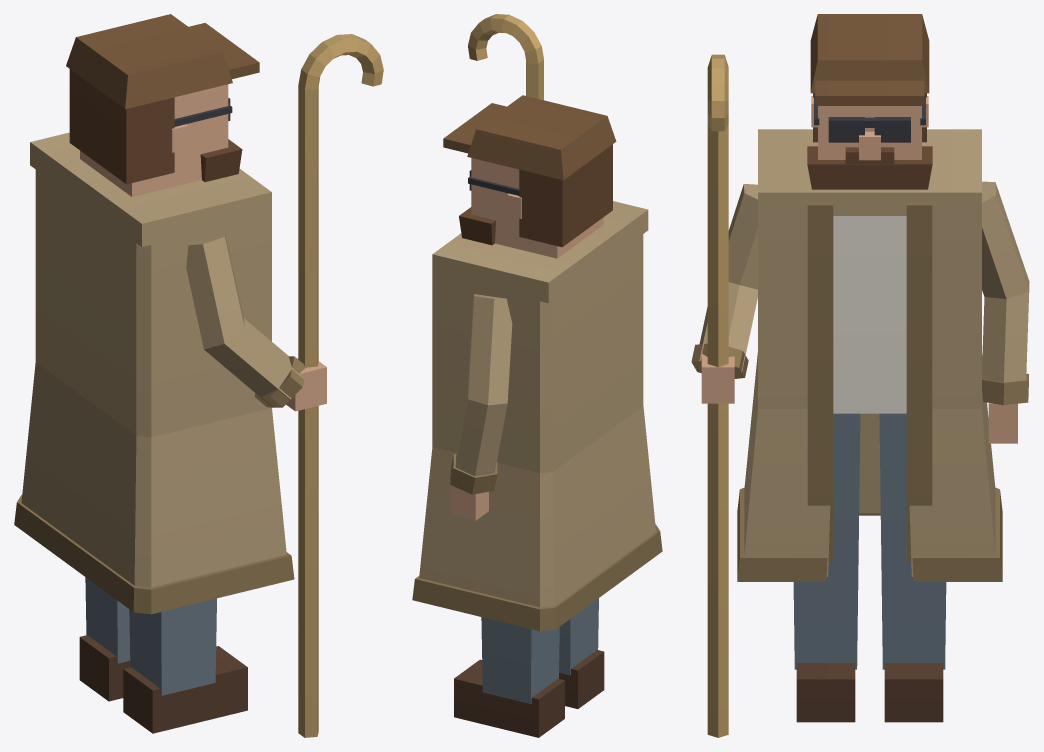
File: SM_Handler.glb
The picture shows the model from 3 angles, left to right: view 1: azimuth 30°, elevation 25°; view 2: azimuth 150°, elevation 25°; view 3: azimuth 270°, elevation 25°; orthographic projection. The views are drawn at different scales.
Visible parts, largest first — view 1: SM_Handler; view 2: SM_Handler; view 3: SM_Handler.
Part boxes in pixels (x1,y1,x2,y2): SM_Handler: (14,14,383,737); SM_Handler: (412,14,662,737); SM_Handler: (691,14,1029,737).
Bounding box in the file's own units: 0.7278 × 2.07 × 0.9214.
1 material, 1 textured.
